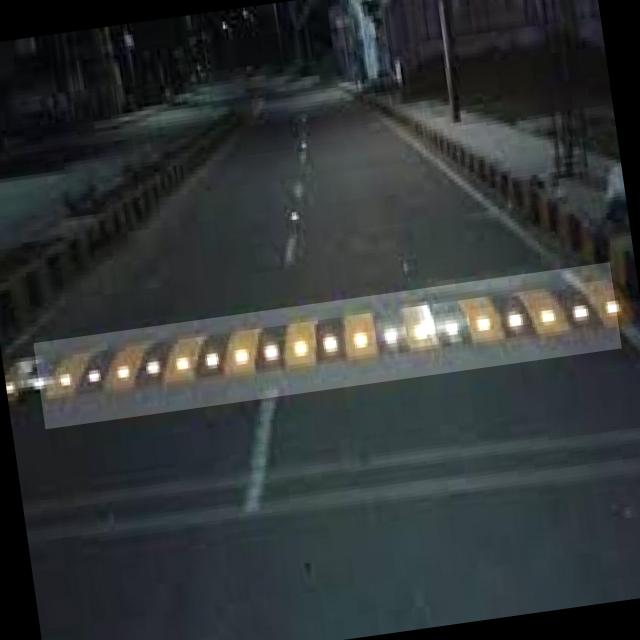bump: (34, 262, 622, 429)
